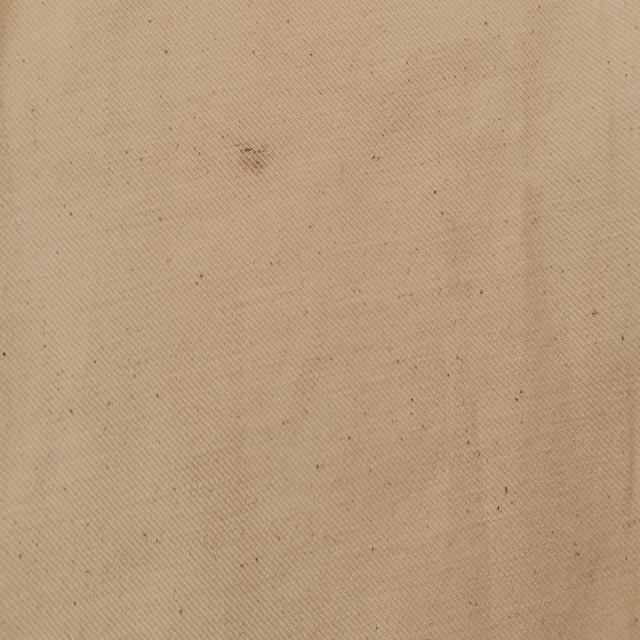taaaches: (234, 120, 277, 192)
